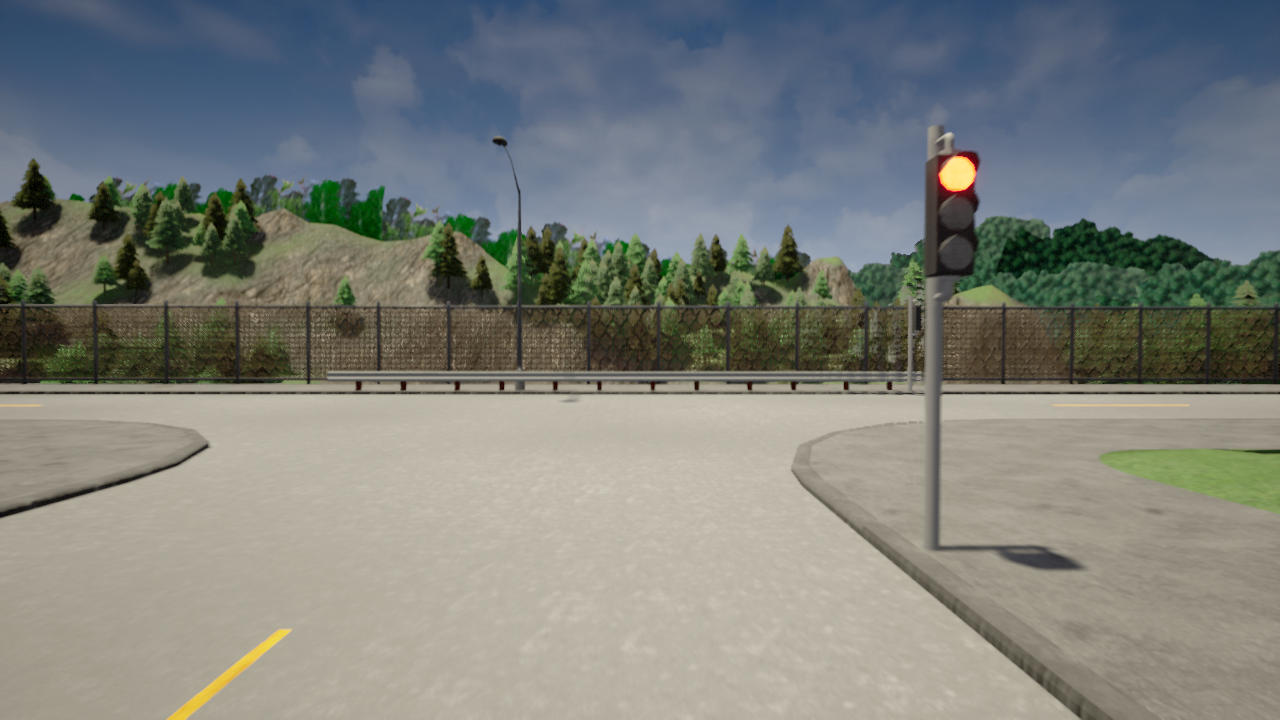red: (923, 153, 982, 284)
